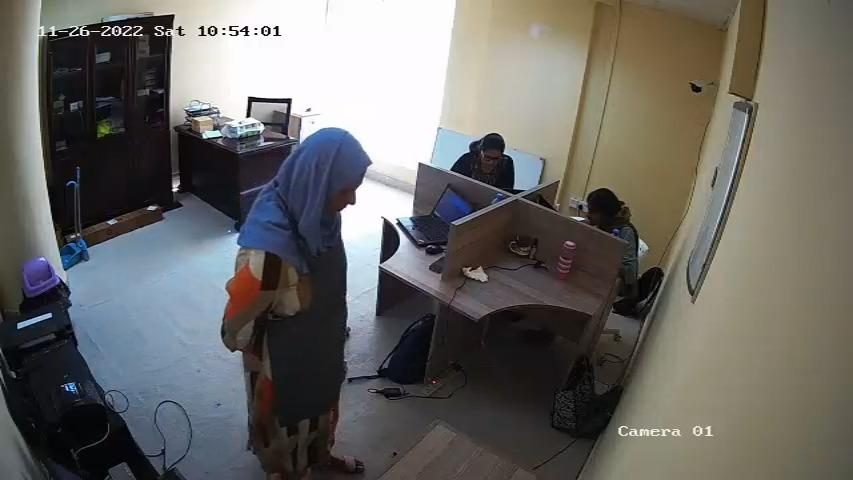apron: (260, 213, 352, 427)
